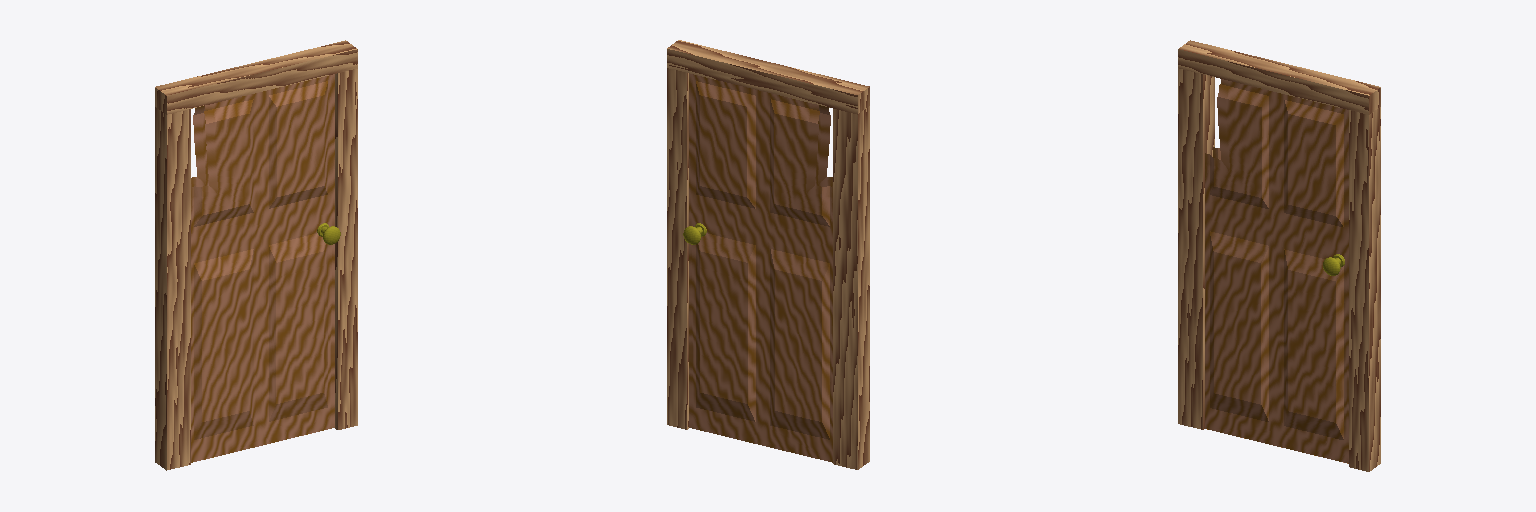
3 renders of one model, left to right at view 1: azimuth 30°, elevation 25°; view 2: azimuth 150°, elevation 25°; view 3: azimuth 330°, elevation 25°, orthographic.
Parts seen in each view (by area): view 1: Door_Door.001, Frame_Cube.002; view 2: Door_Door.001, Frame_Cube.002; view 3: Door_Door.001, Frame_Cube.002.
Part boxes in pixels (left/top/right/bottom): Door_Door.001: left=191, top=74, right=340, bottom=462; Frame_Cube.002: left=155, top=40, right=357, bottom=470; Door_Door.001: left=683, top=73, right=832, bottom=462; Frame_Cube.002: left=667, top=40, right=869, bottom=469; Door_Door.001: left=1205, top=79, right=1348, bottom=463; Frame_Cube.002: left=1178, top=40, right=1380, bottom=471.
Bounding box in the file's own units: 4 × 7.52 × 1.06.
Materials: 3 (1 with a texture image).